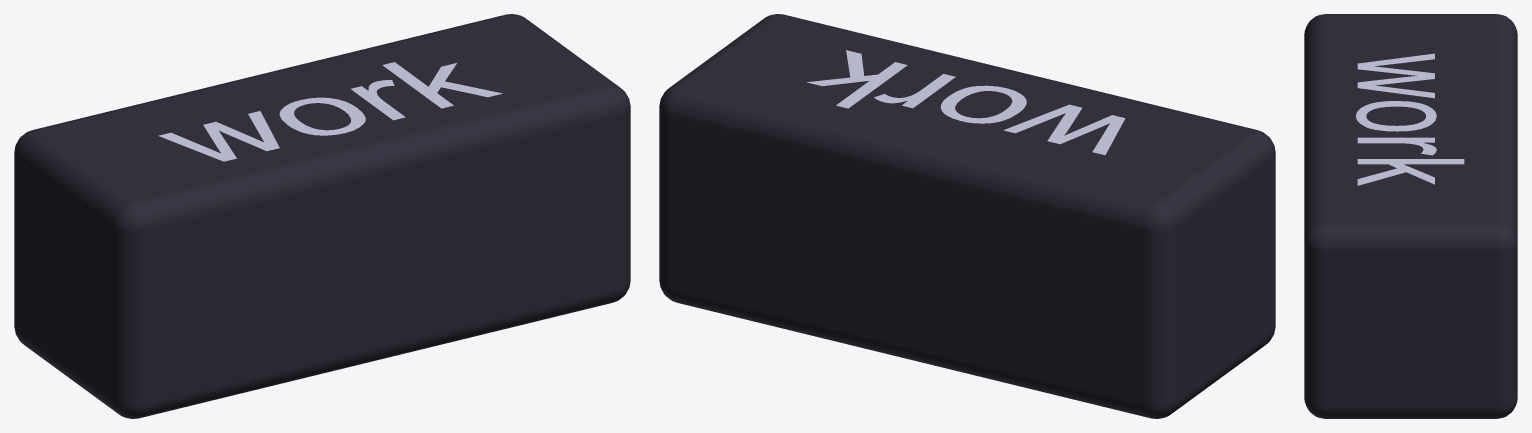
Rendered from work.glb.
The picture shows the model from 3 angles, left to right: view 1: azimuth 30°, elevation 25°; view 2: azimuth 150°, elevation 25°; view 3: azimuth 270°, elevation 25°; orthographic projection. The views are drawn at different scales.
Visible parts, largest first — view 1: Cut, Extrude; view 2: Cut, Extrude; view 3: Cut, Extrude.
Boxes of the visible parts, <box> form: Cut: <box>14,14,630,418</box>; Extrude: <box>158,62,502,161</box>; Cut: <box>659,14,1275,418</box>; Extrude: <box>807,50,1125,154</box>; Cut: <box>1304,14,1517,418</box>; Extrude: <box>1356,53,1464,185</box>.
Bounding box in the file's own units: 5 × 2 × 2.
